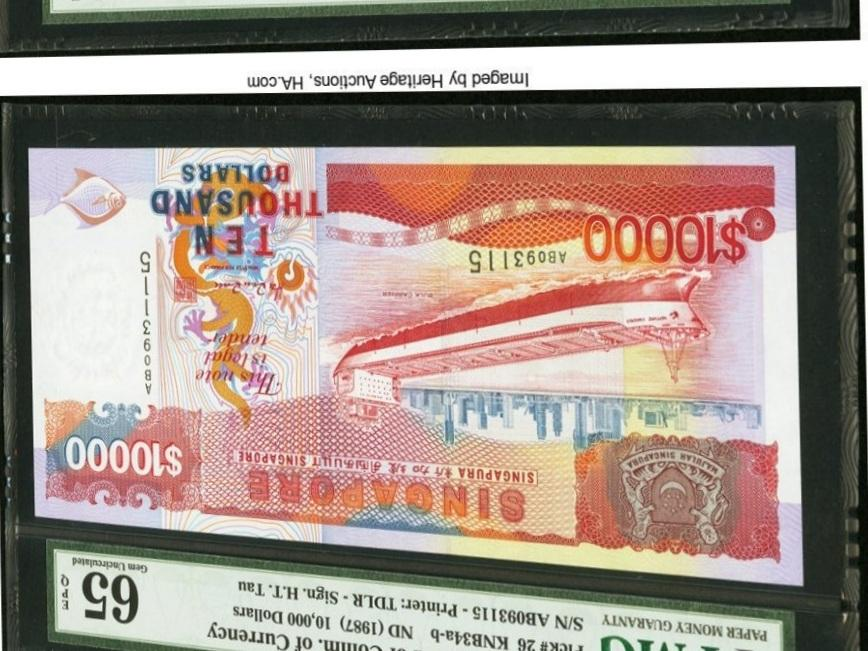10000SingaporeDollar: (39, 148, 788, 569)
